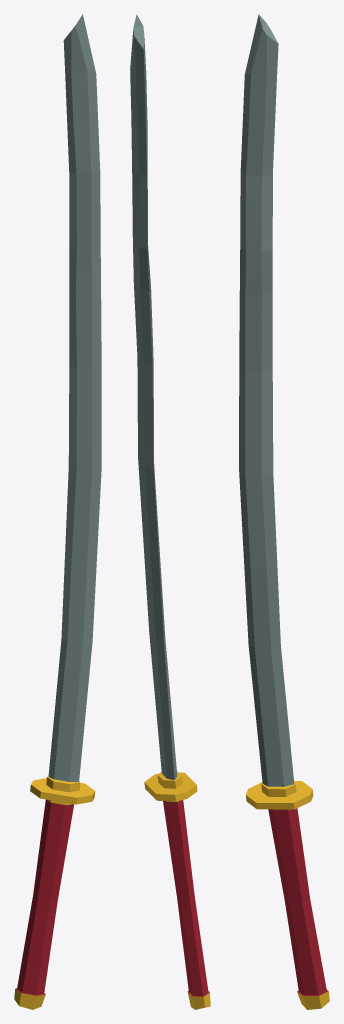
File: Katana.fbx
3 views of the same model, side by side, from view 1: azimuth 90°, elevation 25°; view 2: azimuth 210°, elevation 25°; view 3: azimuth 270°, elevation 25° (orthographic). The views are drawn at different scales.
Parts seen in each view (by area): view 1: KatanaSword.003; view 2: KatanaSword.003; view 3: KatanaSword.003.
Part boxes in pixels (x1,y1,x2,y2): KatanaSword.003: (14, 14, 101, 1009); KatanaSword.003: (130, 14, 210, 1009); KatanaSword.003: (239, 14, 329, 1009).
Bounding box in the file's own units: 26.19 × 471 × 38.35.
